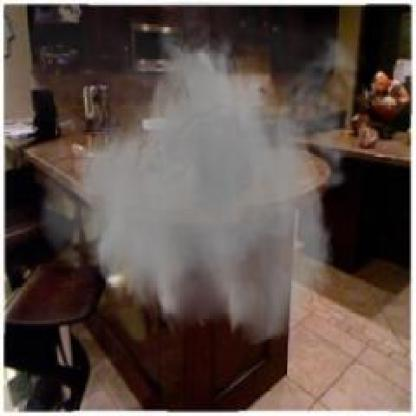Smoke: (31, 1, 369, 347)
